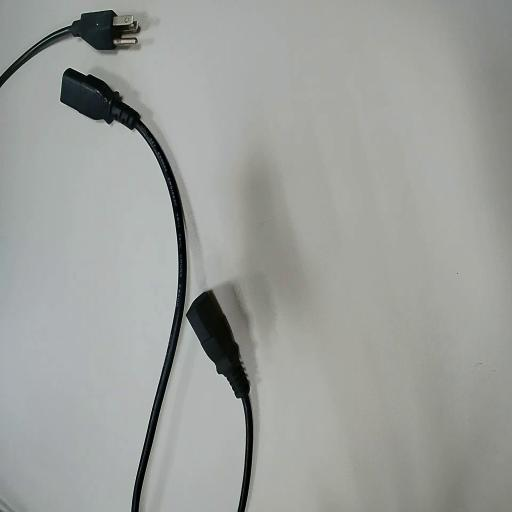wire: (61, 69, 185, 511), (187, 291, 252, 511), (0, 11, 131, 85)
